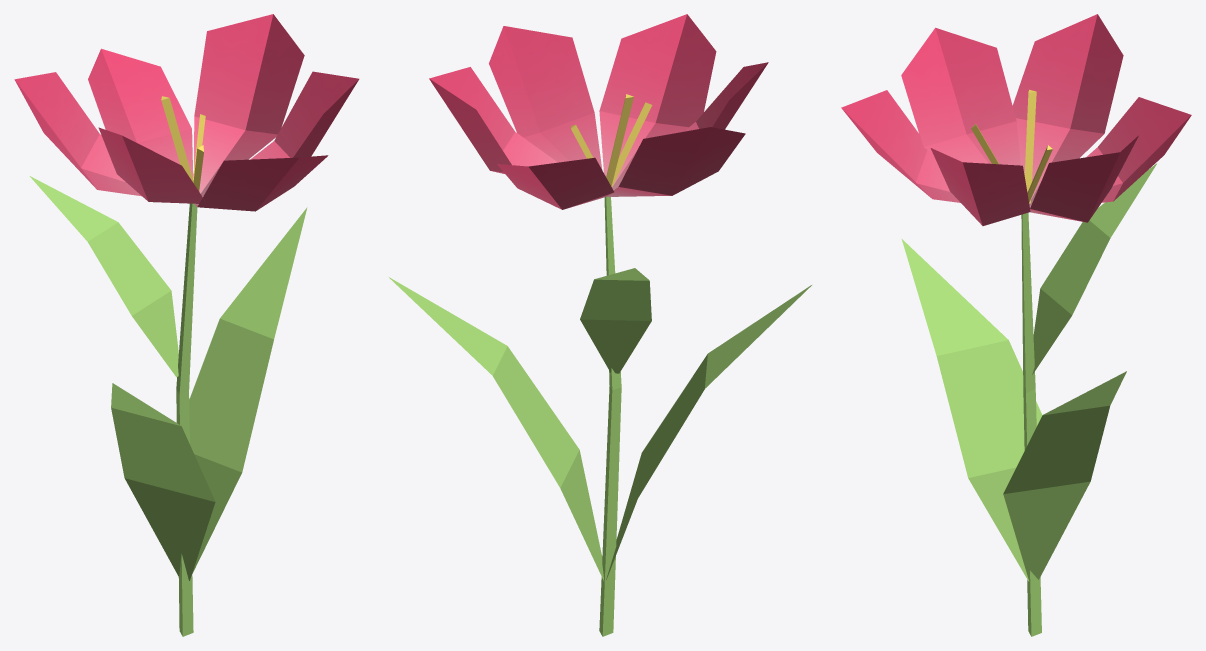
File: Flower_f_TwoS_11.fbx
3 views of the same model, side by side, from view 1: azimuth 30°, elevation 25°; view 2: azimuth 150°, elevation 25°; view 3: azimuth 270°, elevation 25° (orthographic).
Parts seen in each view (by area): view 1: Flower_f_TwoS_11; view 2: Flower_f_TwoS_11; view 3: Flower_f_TwoS_11.
Boxes of the visible parts, x1=… form: Flower_f_TwoS_11: x1=14, y1=14, x2=359, y2=636; Flower_f_TwoS_11: x1=389, y1=14, x2=811, y2=636; Flower_f_TwoS_11: x1=841, y1=14, x2=1191, y2=636.
Bounding box in the file's own units: 0.2893 × 0.5018 × 0.2882.
